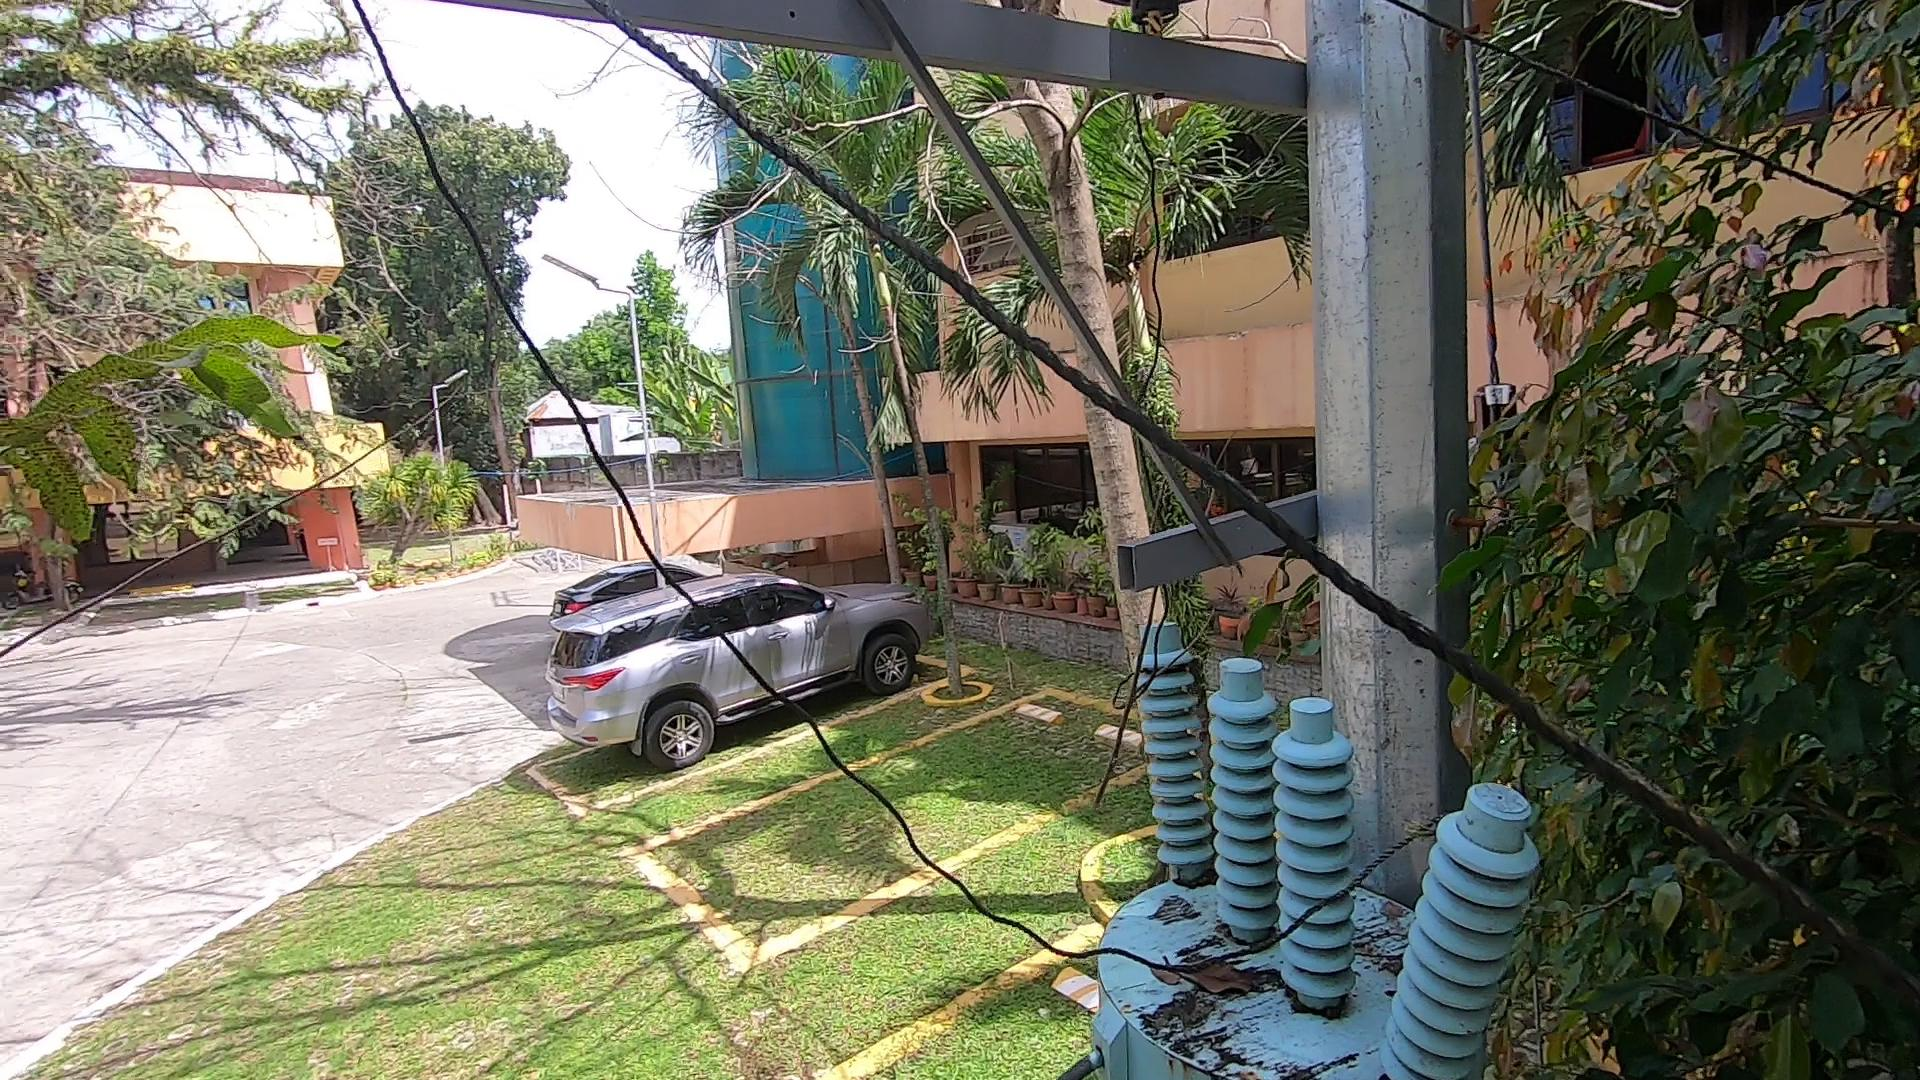leaf: (1149, 948, 1261, 1004), (1370, 943, 1414, 986), (1176, 857, 1220, 893)
tree branch: (1048, 427, 1265, 810)
